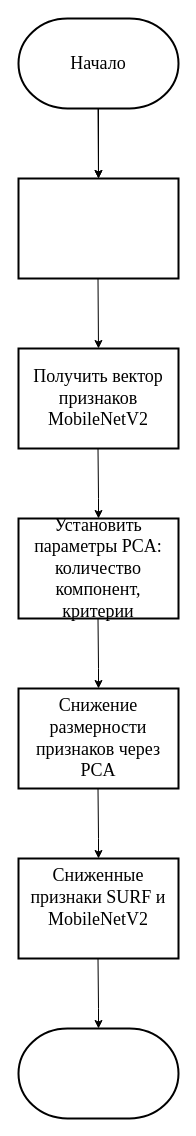
Image size: 196x1136. Some labels were removed from this diagram. Each missing label, with the box of its shape:
Конец: (17, 1027, 179, 1119)
Получить вектор признаков SURF: (17, 177, 179, 279)
